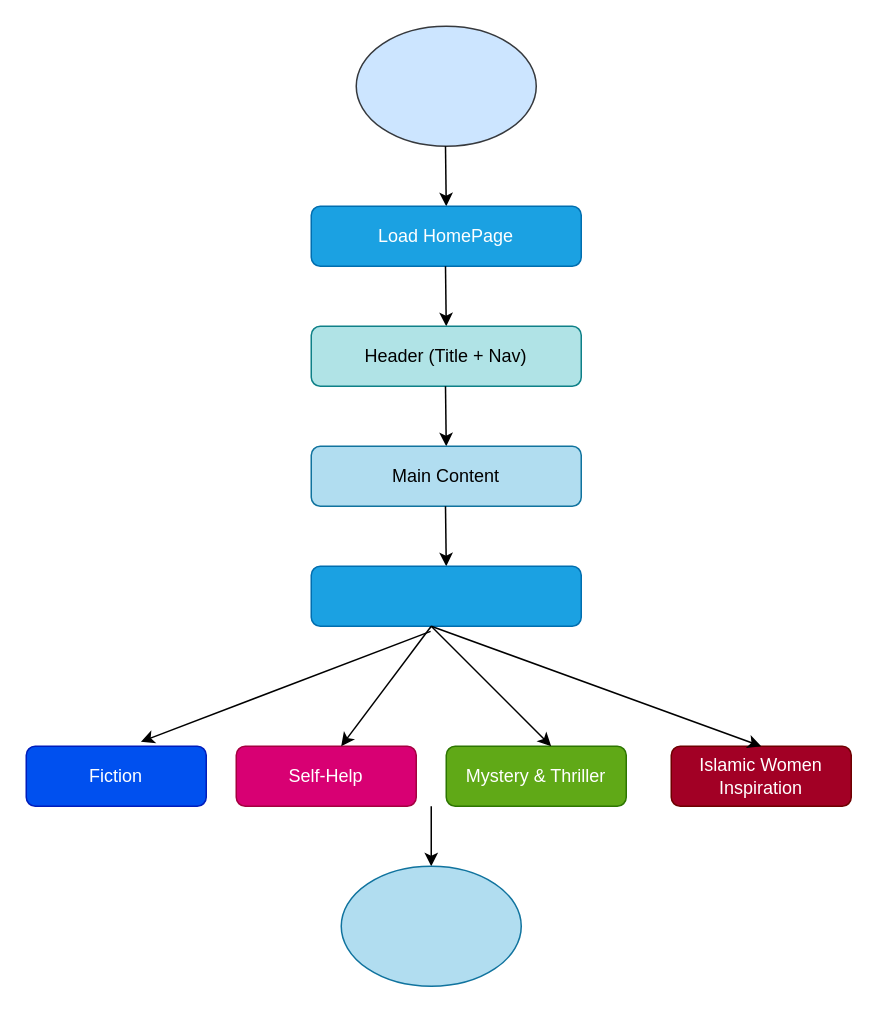
This 878x1013 diagram has some shape labels left out. Here are the shapes that lost their labels. From the top down, the centre of each, then its label:
At point 445,85: "Start".
At point 445,595: "Genres".
At point 430,925: "End".
